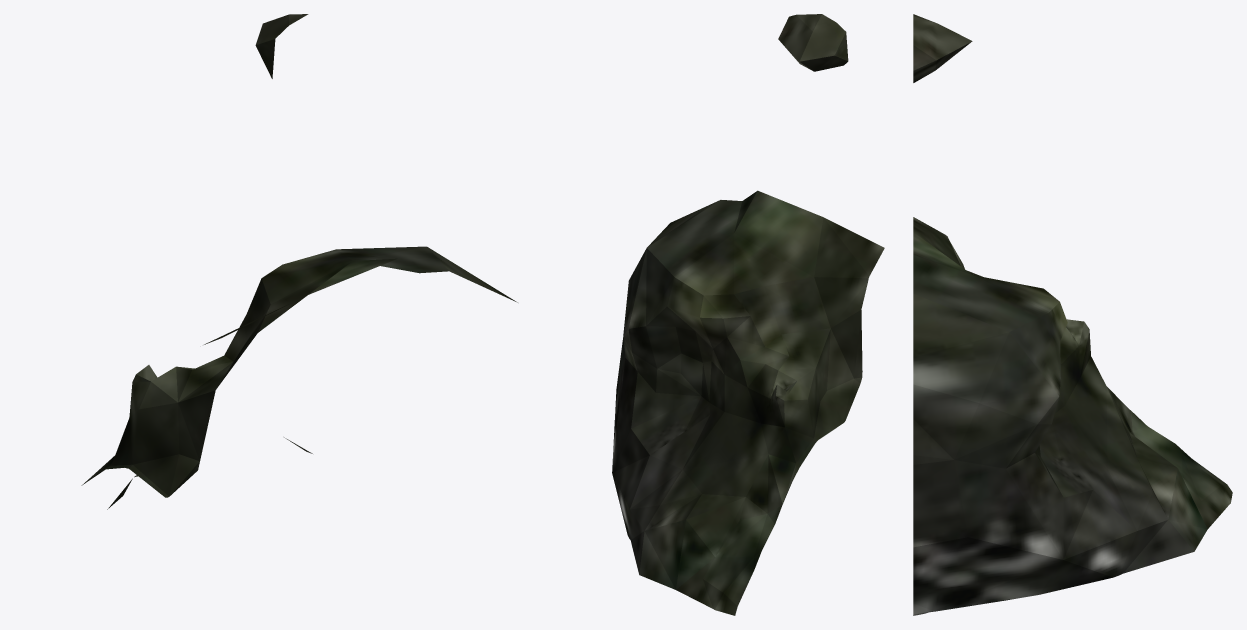
3 renders of one model, left to right at view 1: azimuth 30°, elevation 25°; view 2: azimuth 150°, elevation 25°; view 3: azimuth 270°, elevation 25°, orthographic. The views are drawn at different scales.
Size of the model in its own units: 0.5972 by 1.04 by 0.5932.
Materials: 1 (1 with a texture image).
